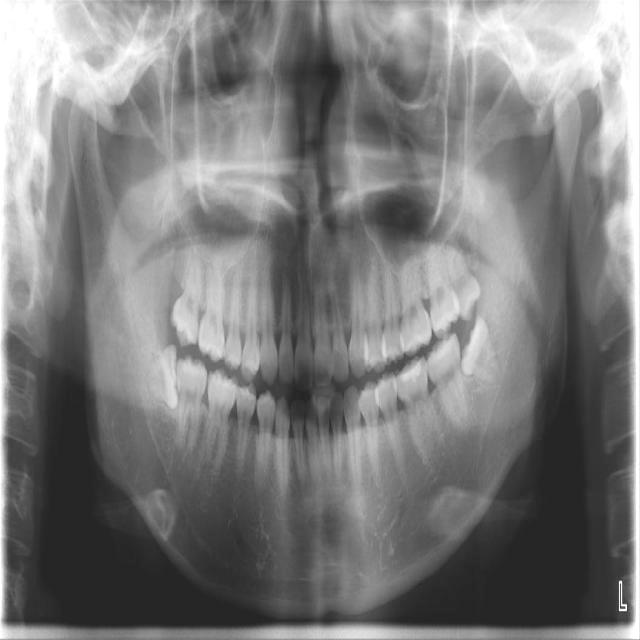Filling: (397, 358, 425, 385)
impacted tooth: (459, 315, 506, 383), (443, 239, 479, 317), (142, 343, 177, 408)
